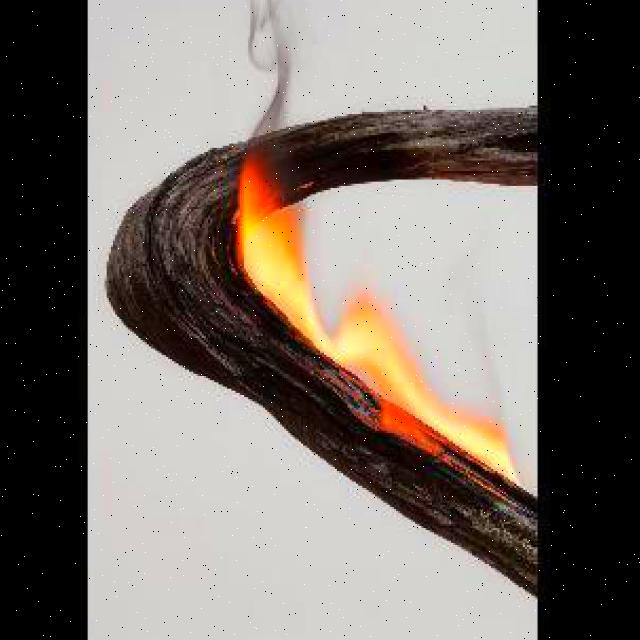fire: (225, 146, 504, 564)
smoke: (229, 0, 311, 182)
